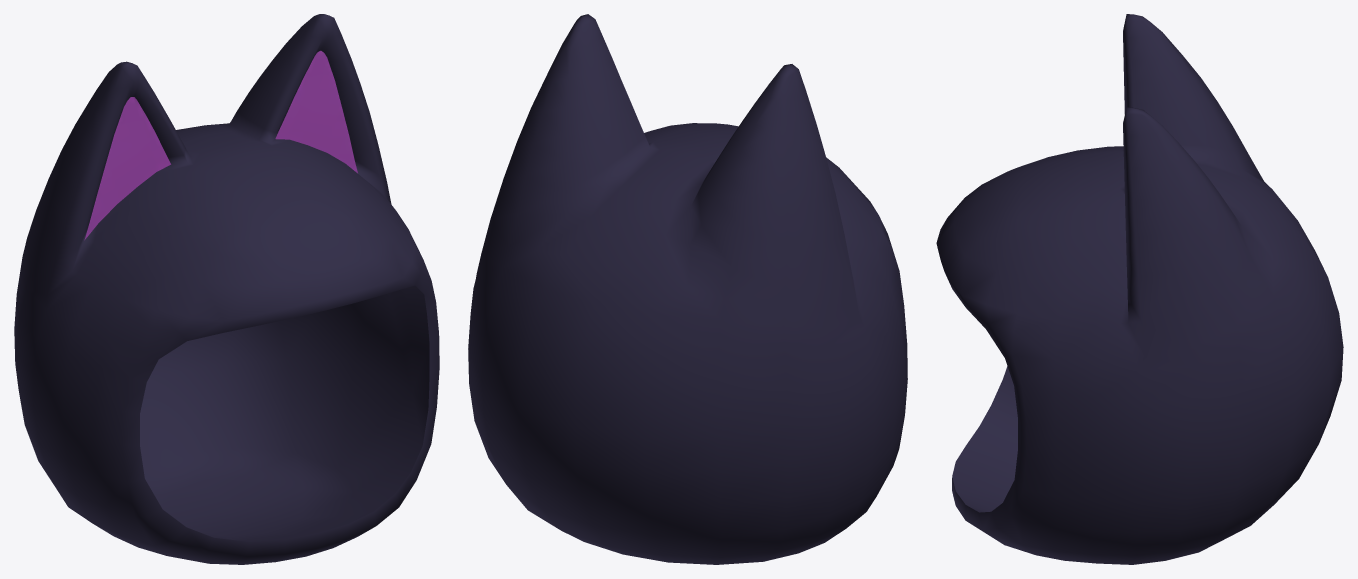
Rendered from CapBangsCat0.glb.
The picture shows the model from 3 angles, left to right: view 1: azimuth 30°, elevation 25°; view 2: azimuth 150°, elevation 25°; view 3: azimuth 270°, elevation 25°; orthographic projection. The views are drawn at different scales.
Visible parts, largest first — view 1: Body__mCap; view 2: Body__mCap; view 3: Body__mCap.
Boxes of the visible parts, bbox=[...] form: Body__mCap: bbox=[14, 14, 439, 564]; Body__mCap: bbox=[468, 14, 907, 564]; Body__mCap: bbox=[936, 14, 1343, 564].
Bounding box in the file's own units: 7.53 × 9.24 × 7.28.
Materials: 1 (1 with a texture image).
